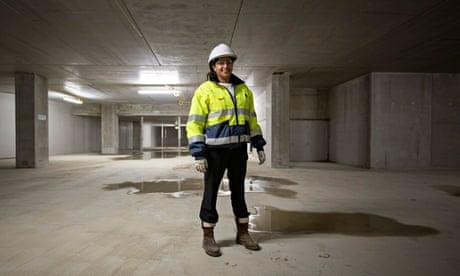safe person: (184, 40, 275, 259)
